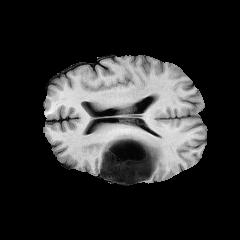glioma: (99, 132, 164, 182)
